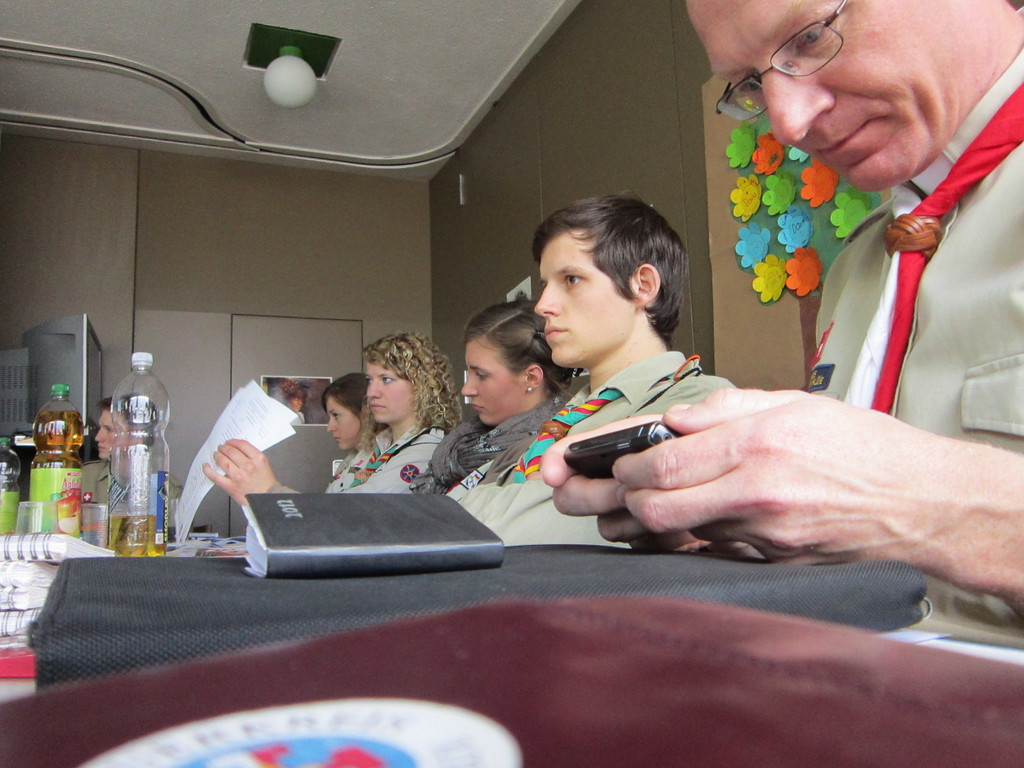Human-face: (684, 0, 1001, 196), (534, 230, 632, 369), (459, 335, 530, 426), (365, 364, 417, 427), (91, 407, 138, 458), (329, 398, 366, 454)
